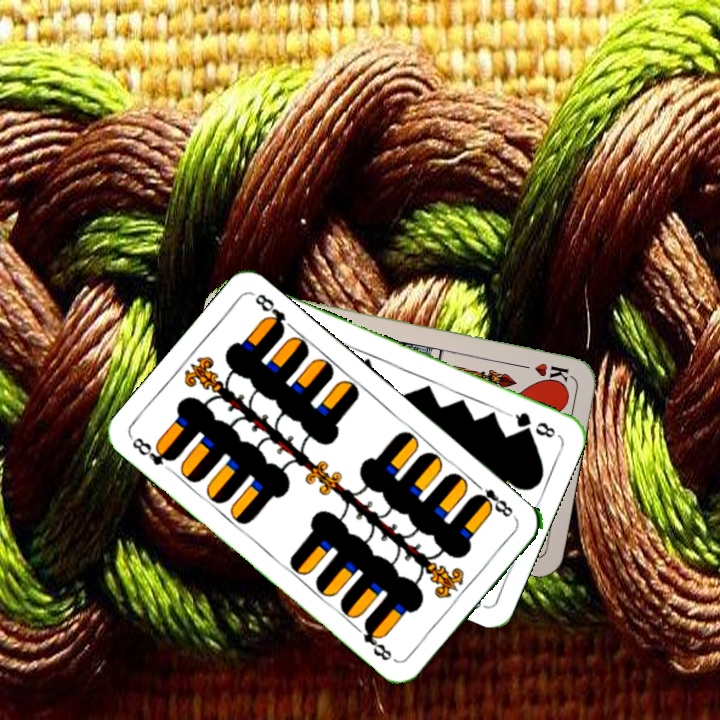E8: (469, 478, 516, 520), (127, 433, 178, 468)
G8: (504, 408, 558, 441)
HK: (513, 358, 571, 384)
